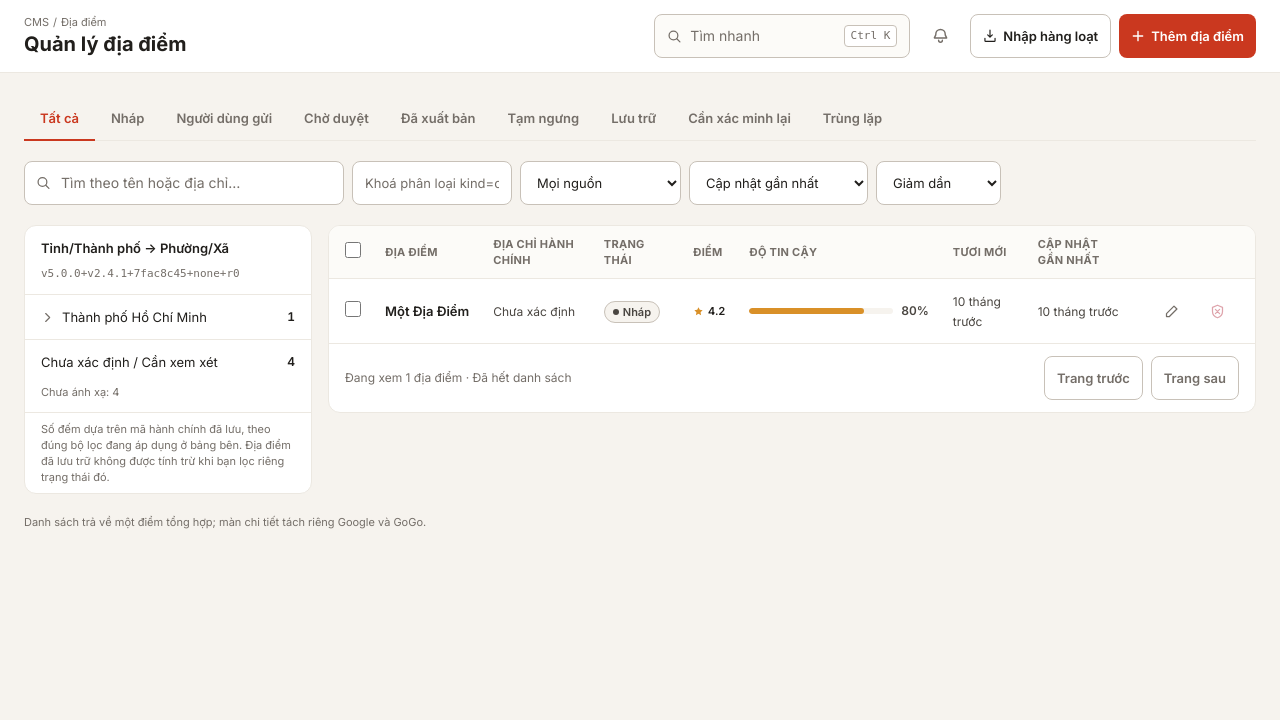
Scenario: bulk place workflow › from draft offers exactly the legal transitions
Click the checkbox named "Một Địa Điểm".
click(353, 308)  # box [345,300,361,316]
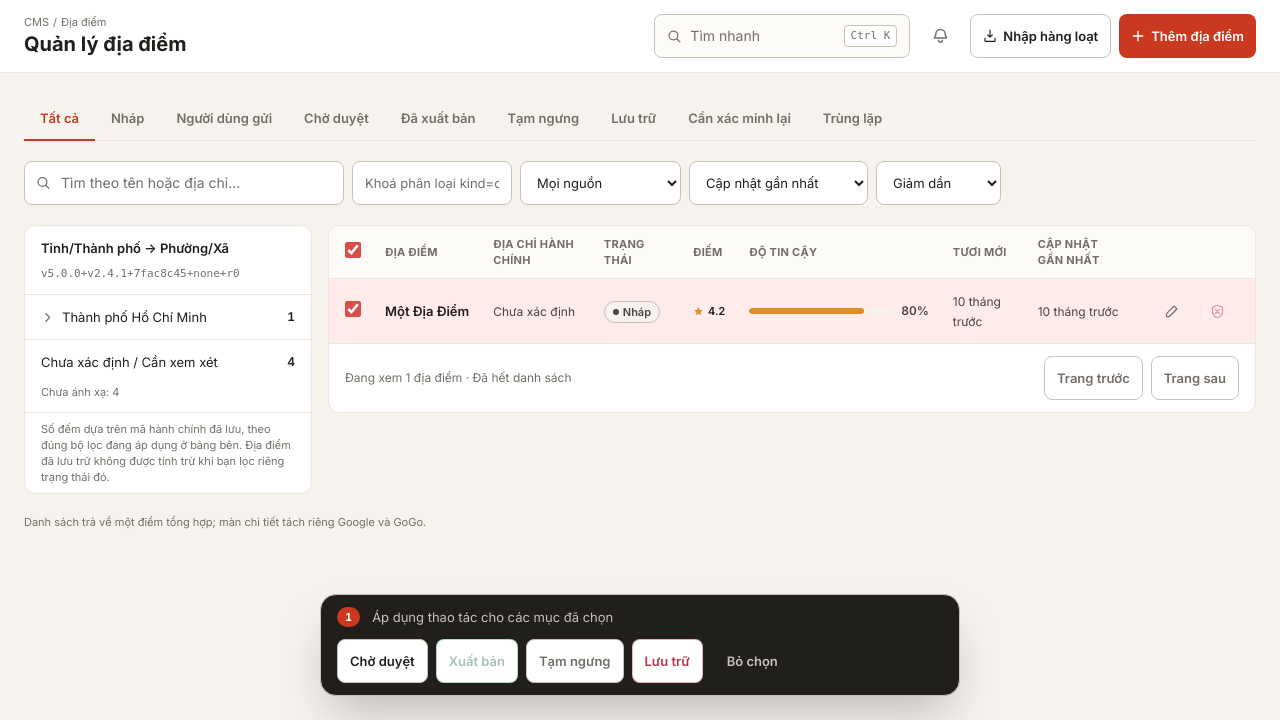
Expected: the button "Xuất bản" is disabled, [436,639,518,683]
Expected: the button "Chờ duyệt" is enabled, [337,639,428,683]
Expected: the button "Tạm ngưng" is disabled, [526,639,624,683]
